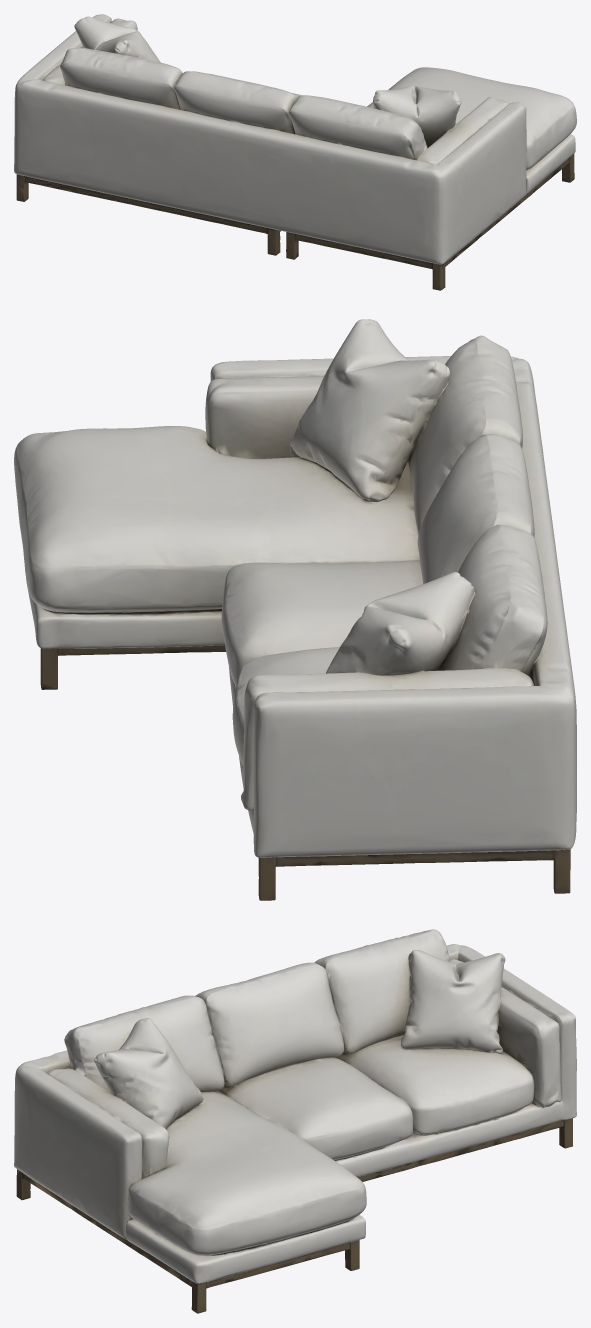
Rendered from caravanafurniture-com-products-modern-sand-upholstered-secti-99e601.glb.
The picture shows the model from 3 angles, top to bottom: view 1: azimuth 30°, elevation 25°; view 2: azimuth 150°, elevation 25°; view 3: azimuth 270°, elevation 25°; orthographic projection. The views are drawn at different scales.
Parts seen in each view (by area): view 1: tripo_node_8d7e3c4a-d23d-43a5-b739-19bfa5882db7; view 2: tripo_node_8d7e3c4a-d23d-43a5-b739-19bfa5882db7; view 3: tripo_node_8d7e3c4a-d23d-43a5-b739-19bfa5882db7.
Part boxes in pixels (bbox=[...]): tripo_node_8d7e3c4a-d23d-43a5-b739-19bfa5882db7: bbox=[14, 14, 576, 290]; tripo_node_8d7e3c4a-d23d-43a5-b739-19bfa5882db7: bbox=[14, 319, 576, 900]; tripo_node_8d7e3c4a-d23d-43a5-b739-19bfa5882db7: bbox=[14, 929, 576, 1313].
Bounding box in the file's own units: 1.05 × 0.3565 × 1.03.
1 material, 1 textured.
